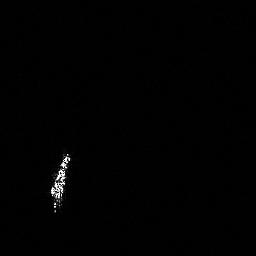ship: (45, 149, 76, 217)
